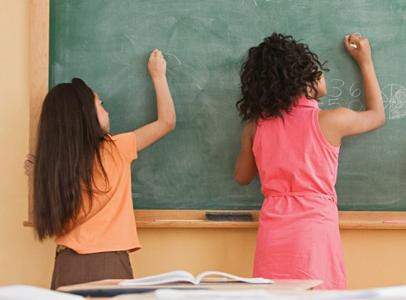person: (233, 33, 387, 289)
